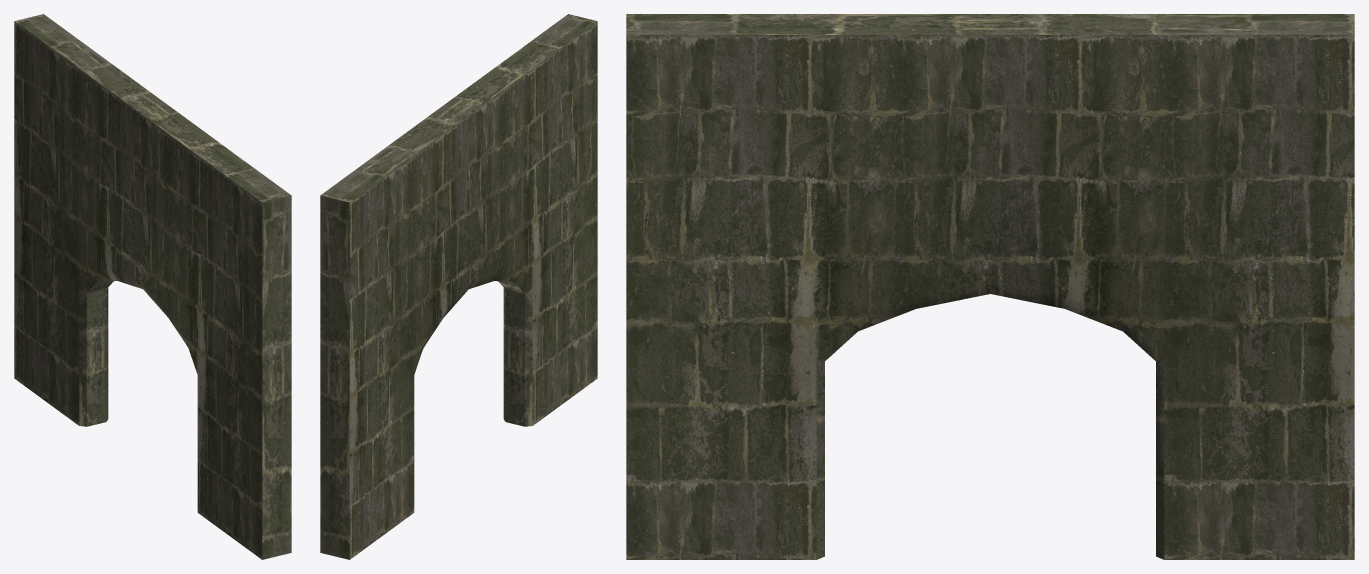
The model's file is Wall_DoubleDoorway.fbx.
3 views of the same model, side by side, from view 1: azimuth 30°, elevation 25°; view 2: azimuth 150°, elevation 25°; view 3: azimuth 270°, elevation 25° (orthographic). The views are drawn at different scales.
Visible parts, largest first — view 1: DoubleDoorway; view 2: DoubleDoorway; view 3: DoubleDoorway.
Boxes of the visible parts, x1,y1,x2,y2 form: DoubleDoorway: [14, 14, 291, 559]; DoubleDoorway: [320, 14, 597, 559]; DoubleDoorway: [626, 14, 1354, 559].
Bounding box in the file's own units: 51 × 595 × 748.
